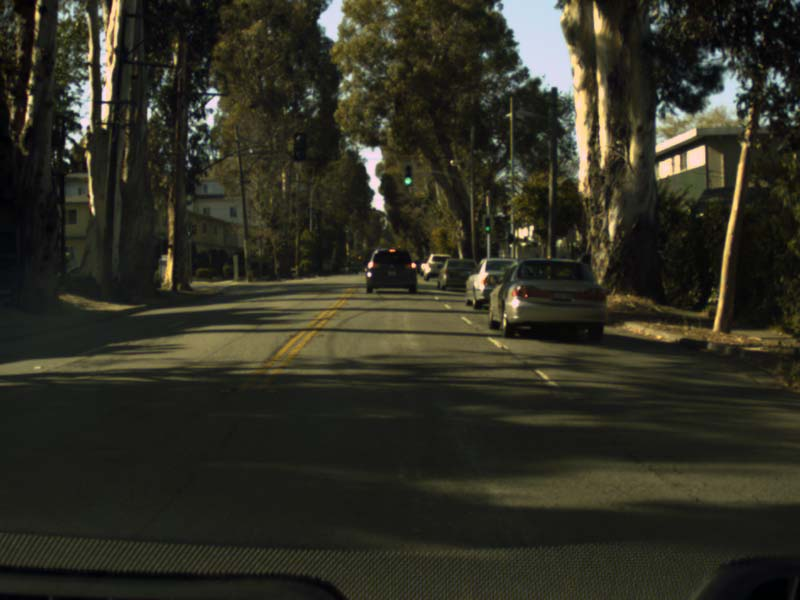Green: (402, 164, 413, 186), (482, 215, 492, 233)
